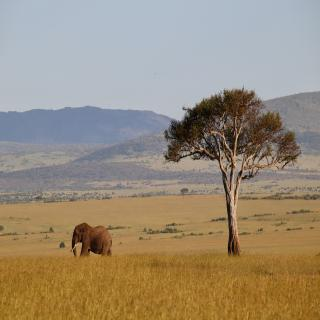Elephant: (69, 211, 124, 263)
